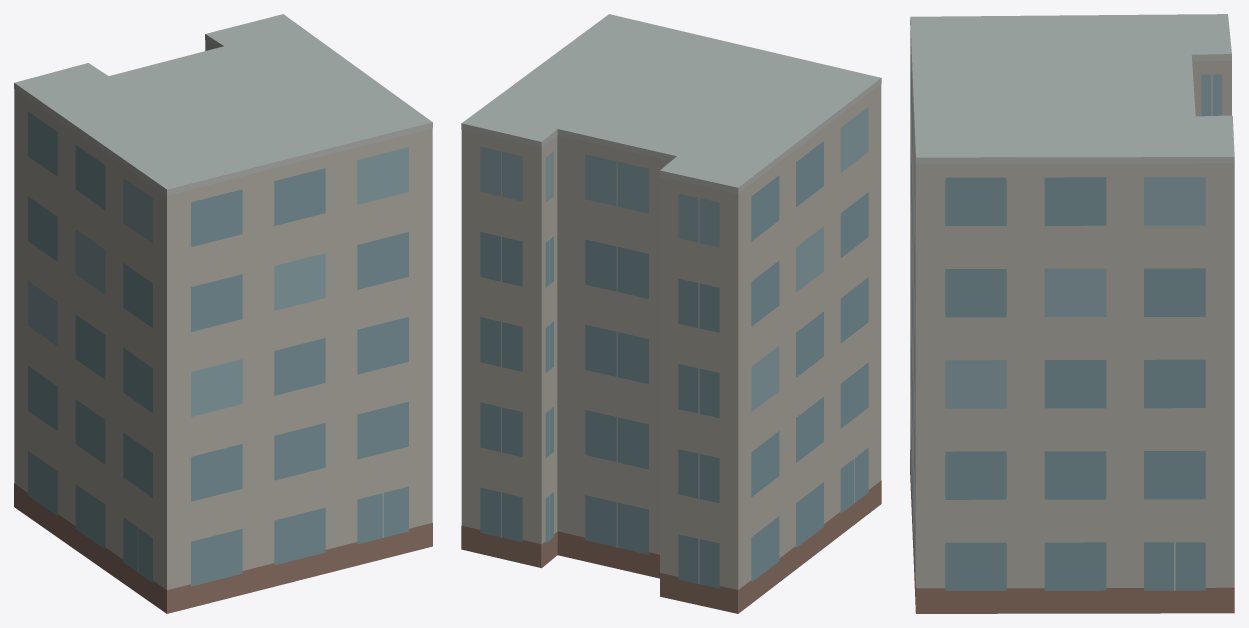
The model's file is survey-upis-32878340.glb.
3 views of the same model, side by side, from view 1: azimuth 30°, elevation 25°; view 2: azimuth 150°, elevation 25°; view 3: azimuth 270°, elevation 25° (orthographic). The views are drawn at different scales.
Parts seen in each view (by area): view 1: survey-upis-32878340.tmp; view 2: survey-upis-32878340.tmp; view 3: survey-upis-32878340.tmp.
Part boxes in pixels (x1,y1,x2,y2): survey-upis-32878340.tmp: (14,14,432,613); survey-upis-32878340.tmp: (461,14,881,613); survey-upis-32878340.tmp: (910,14,1234,613).
Bounding box in the file's own units: 11.62 × 17.2 × 11.1.
